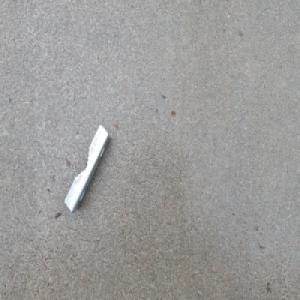ClampPart: (64, 123, 110, 214)
